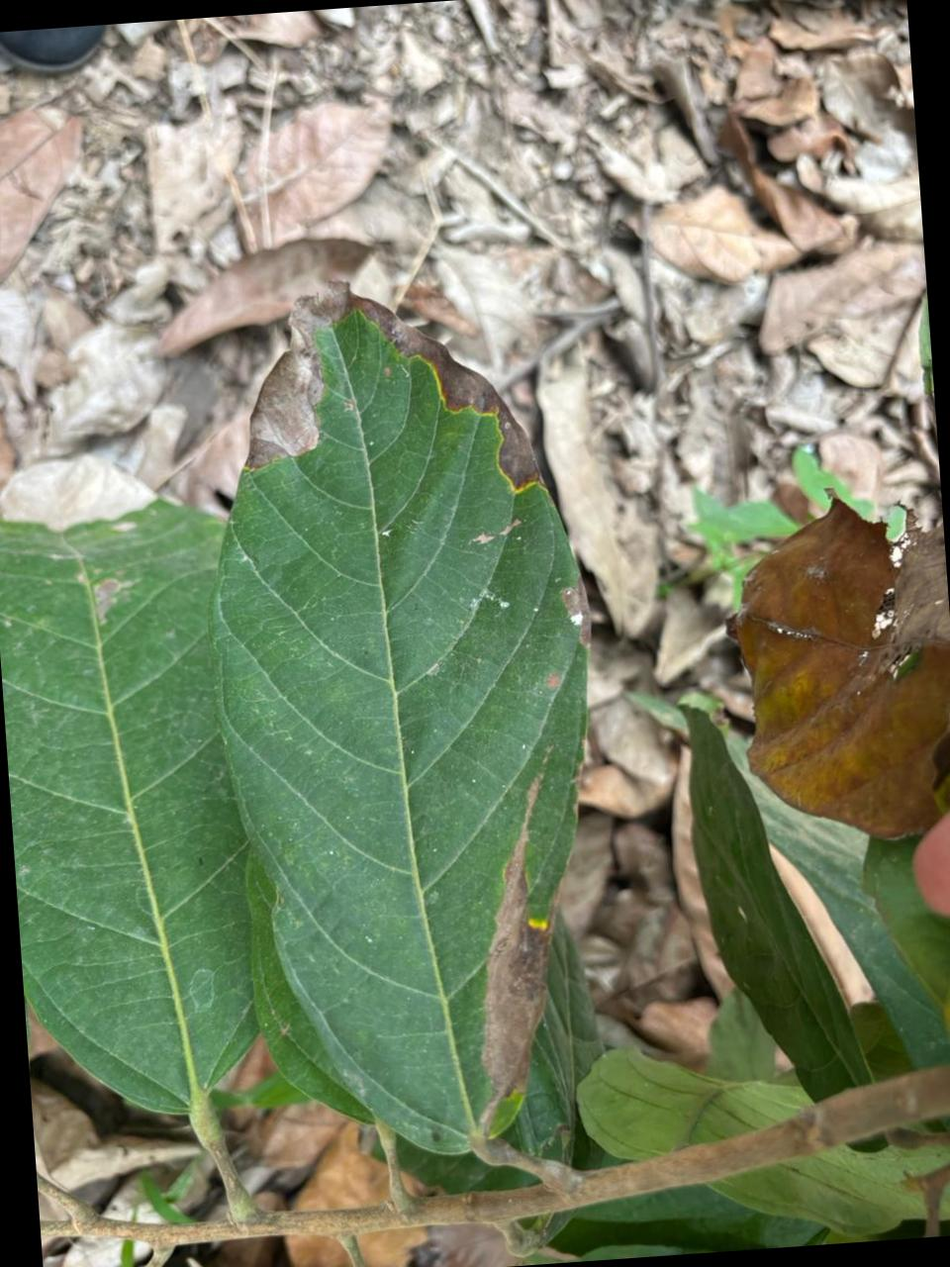Potasio: (213, 299, 587, 1151), (0, 502, 255, 1132)
